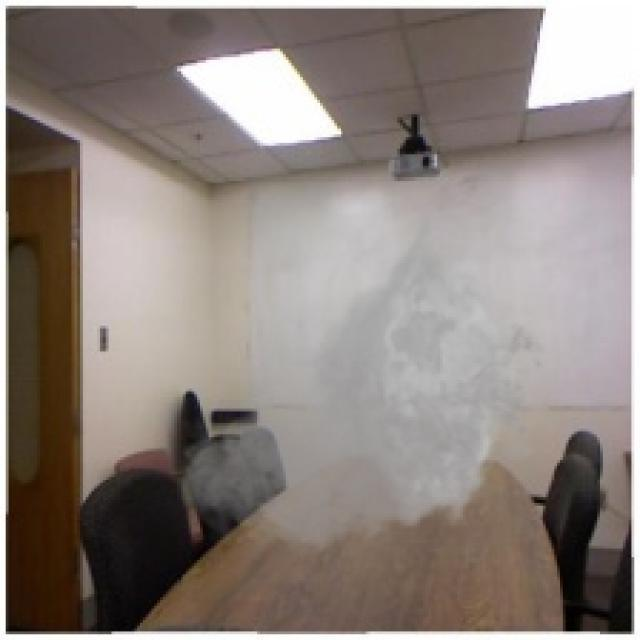Smoke: (171, 197, 560, 566)
